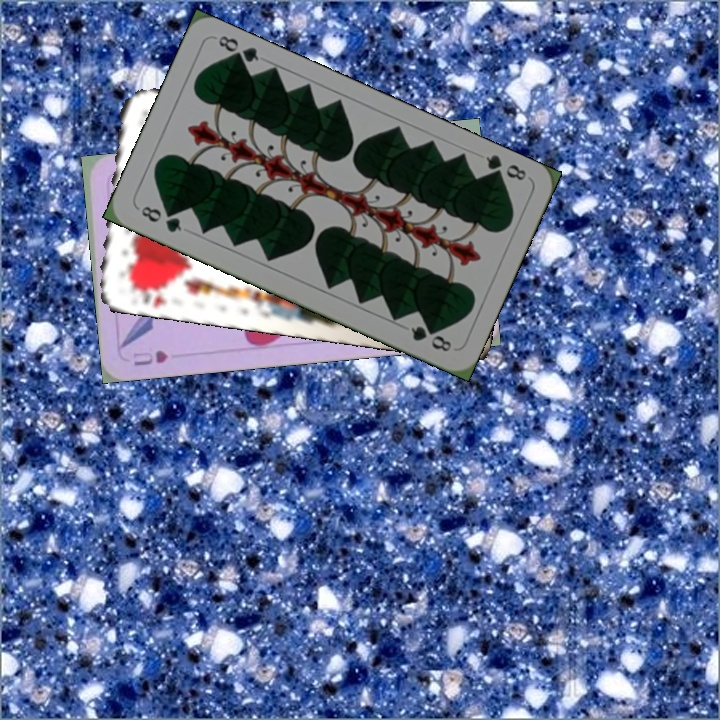G8: (134, 201, 184, 236), (481, 150, 529, 184)
HK: (122, 277, 170, 309)
HU: (129, 345, 171, 369)
